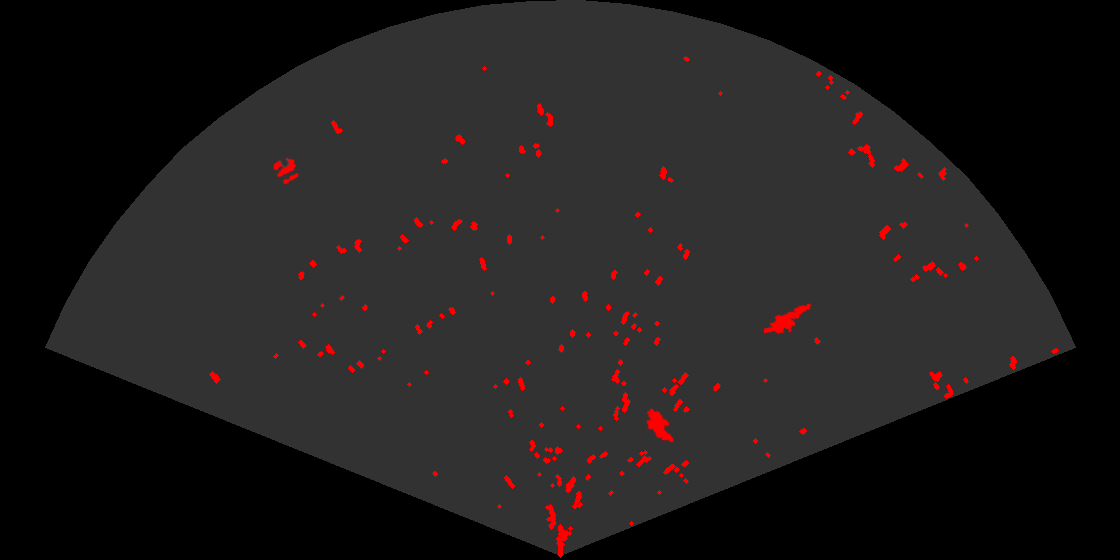AUV: (645, 407, 676, 444)
ball: (271, 156, 300, 186)
frogman: (764, 302, 814, 336)
